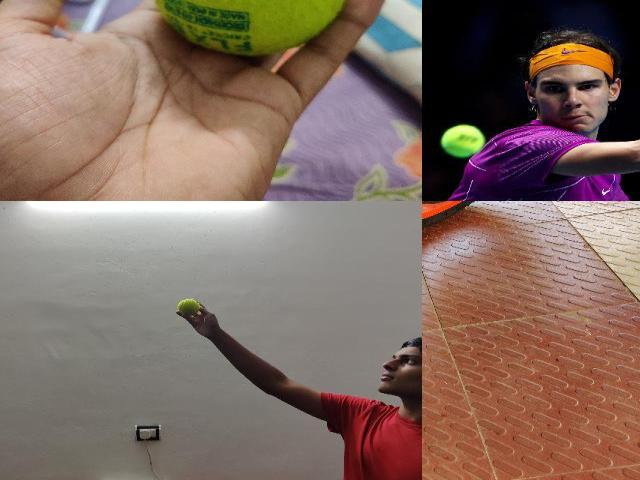tennis-ball: (149, 0, 350, 56), (440, 125, 484, 158), (177, 298, 200, 316)
